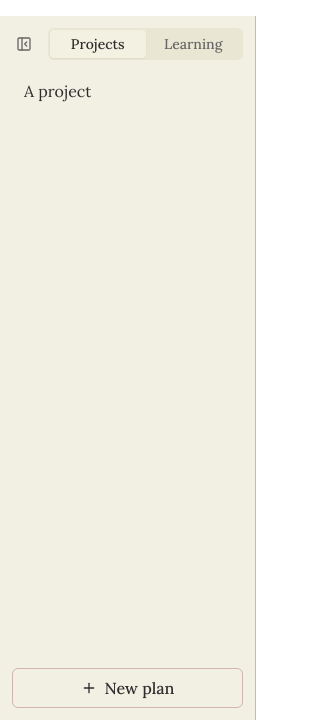
Test: Sidebar › open (FS-S6WVY §Docked shell, §Look) › should expose which plan type is selected, and switch it
This screenshot has width=320, height=720.
Expected: the link "A project" is shown, x1=24 y1=81 x2=91 y2=101
What coordinates should you click on to do the following:
click the button "Learning"
I would click on:
 (193, 44)
Its box is x1=146 y1=30 x2=241 y2=58.
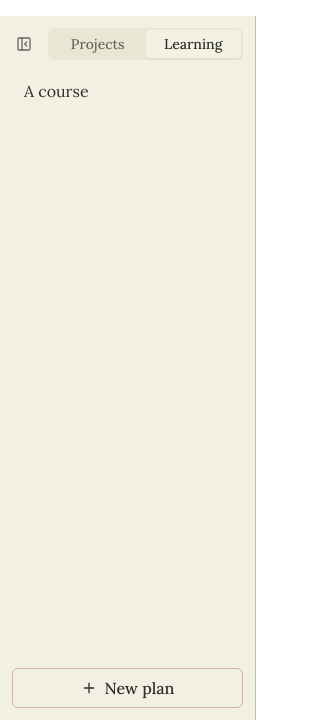
Now the link "A course" is shown, box x1=24 y1=81 x2=89 y2=101
Now the link "A project" is gone
